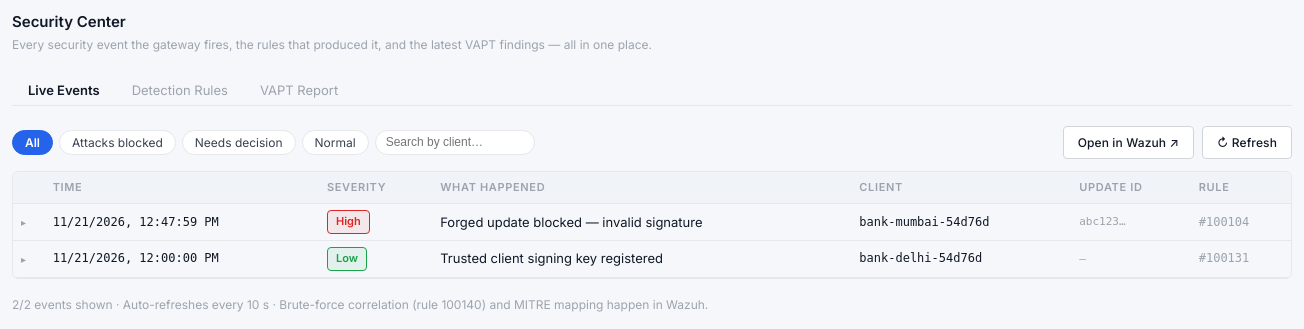
Test case: SecurityCenter — tab rendering › Detection Rules tab shows empty state when no rules
Click the button "Detection Rules": click(180, 89) [116,74,244,105]
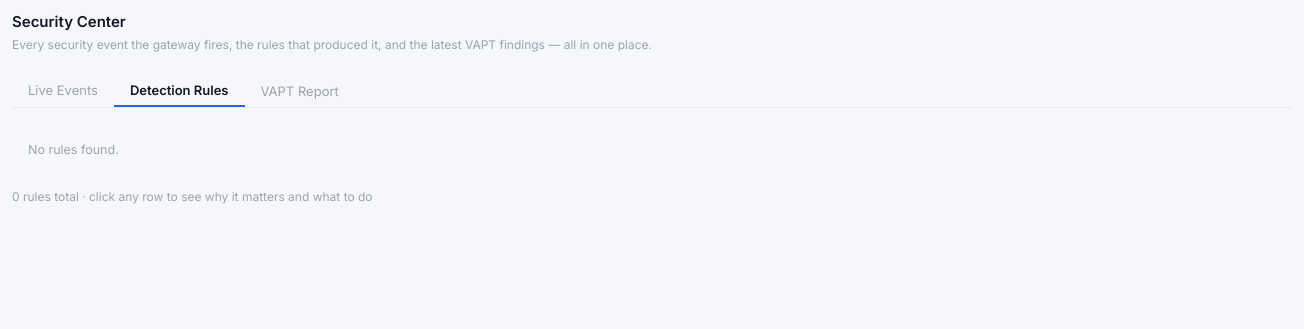
Expected: the text "No rules found." is shown, [28,142,119,157]
